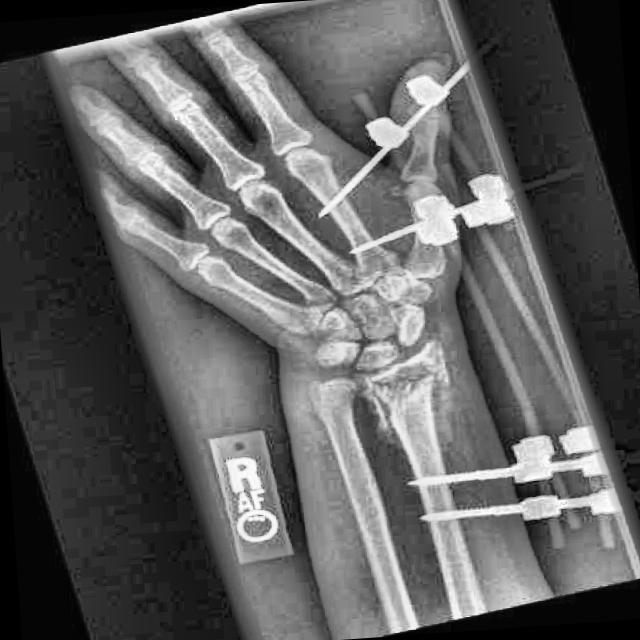fingers positive: (275, 329, 487, 449)
